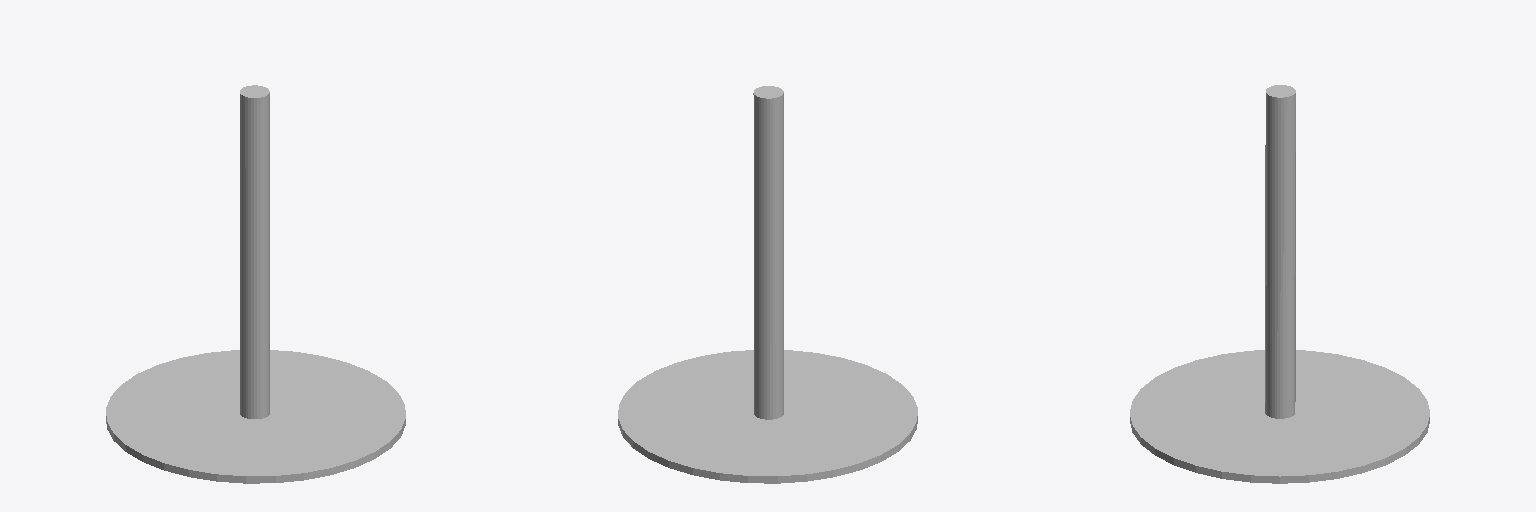
Rendered from Pole.obj.
3 renders of one model, left to right at view 1: azimuth 30°, elevation 25°; view 2: azimuth 150°, elevation 25°; view 3: azimuth 270°, elevation 25°, orthographic.
Parts seen in each view (by area): view 1: Cylinder.001, Cylinder; view 2: Cylinder.001, Cylinder; view 3: Cylinder.001, Cylinder.
Part boxes in pixels (left/top/right/bottom): Cylinder.001: left=106, top=350, right=405, bottom=483; Cylinder: left=240, top=85, right=269, bottom=418; Cylinder.001: left=618, top=350, right=917, bottom=483; Cylinder: left=753, top=86, right=783, bottom=419; Cylinder.001: left=1130, top=350, right=1429, bottom=483; Cylinder: left=1265, top=85, right=1295, bottom=418.
Bounding box in the file's own units: 3 × 3.62 × 3.